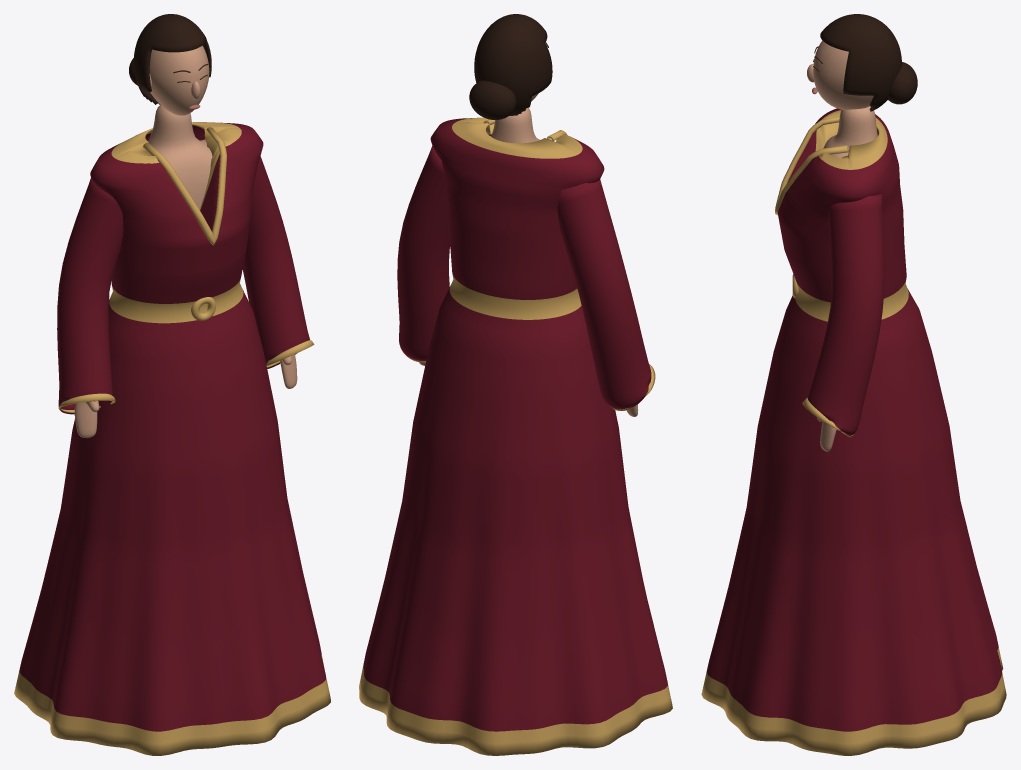
The model's file is kaftan-model-03.glb.
The picture shows the model from 3 angles, left to right: view 1: azimuth 30°, elevation 25°; view 2: azimuth 150°, elevation 25°; view 3: azimuth 270°, elevation 25°; orthographic projection.
Visible parts, largest first — view 1: Kaftan, Body, Hair; view 2: Kaftan, Hair, Body; view 3: Kaftan, Hair, Body.
Boxes of the visible parts, x1,y1,x2,y2 form: Kaftan: (14,122,330,755); Body: (74,45,297,438); Hair: (129,14,211,104); Kaftan: (359,117,672,755); Hair: (469,14,552,119); Body: (419,42,638,416); Kaftan: (701,108,1006,755); Hair: (820,14,917,111); Body: (807,40,877,451).
Size of the model in its own units: 0.7384 by 1.75 by 0.7035.
Materials: 4 (4 with a texture image).
